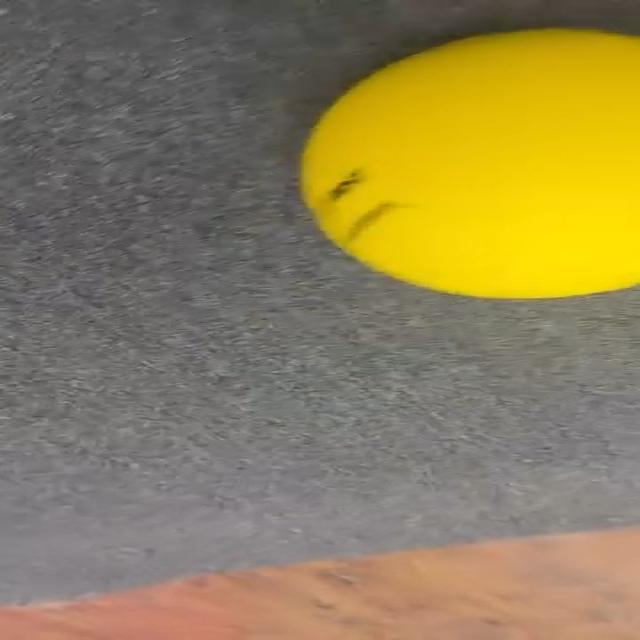Fuels: (293, 21, 640, 300)
